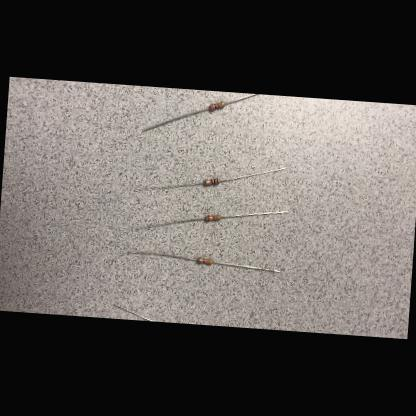resistor: (208, 101, 224, 112), (204, 214, 222, 223), (204, 178, 220, 186), (196, 258, 212, 264)
wire: (141, 105, 207, 136), (136, 214, 204, 236), (220, 164, 286, 186), (134, 178, 203, 196), (222, 206, 288, 223), (113, 304, 154, 322), (127, 251, 196, 261), (213, 262, 279, 272), (226, 92, 258, 108)
